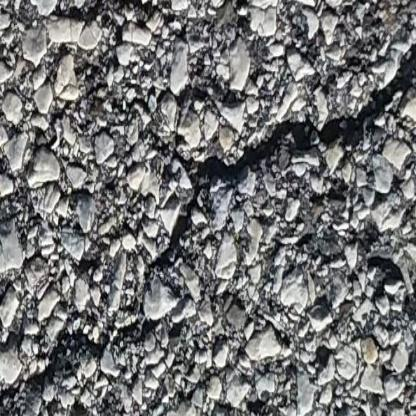Cracks: (146, 24, 416, 267), (0, 303, 180, 416), (47, 0, 111, 28)
